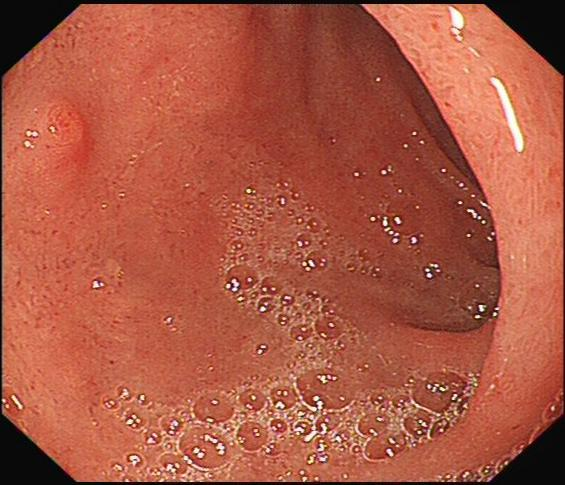Polyp: (15, 88, 99, 172)
